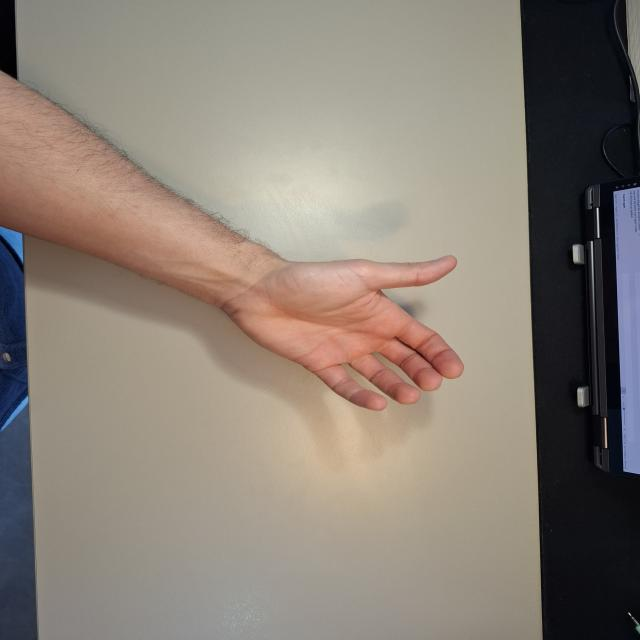glove_off: (220, 252, 468, 411)
